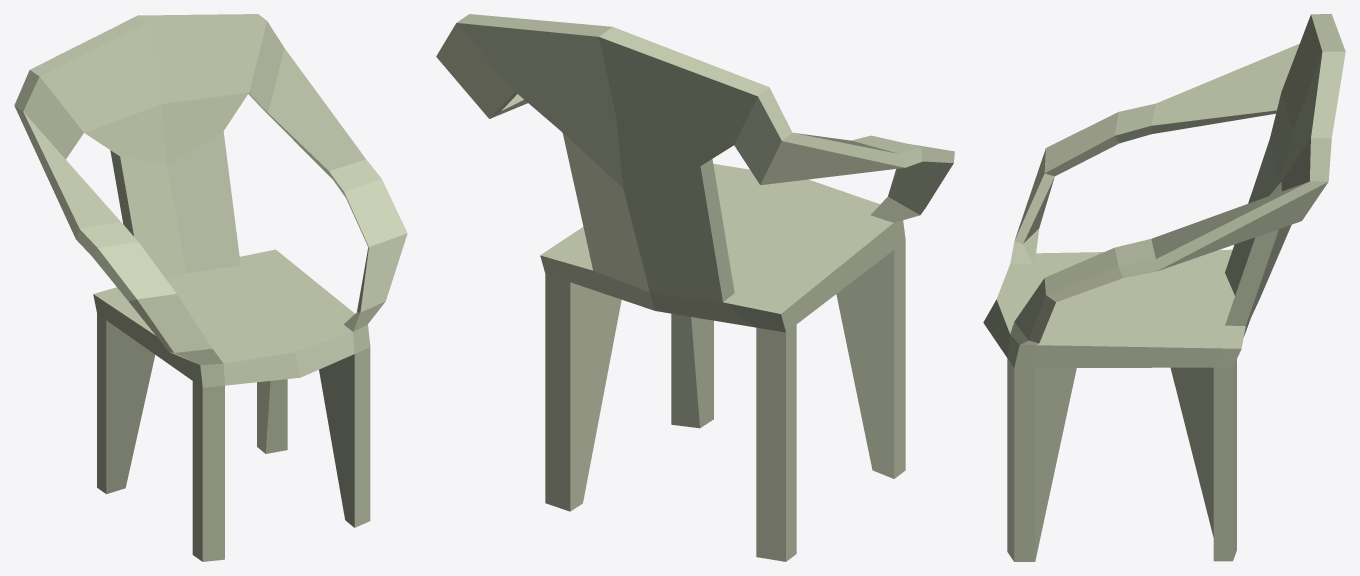
Rendered from PlasticChair.fbx.
3 renders of one model, left to right at view 1: azimuth 30°, elevation 25°; view 2: azimuth 150°, elevation 25°; view 3: azimuth 270°, elevation 25°, orthographic. The views are drawn at different scales.
Visible parts, largest first — view 1: Cube; view 2: Cube; view 3: Cube.
Boxes of the visible parts, <box> form: Cube: <box>14,14,407,561</box>; Cube: <box>436,14,954,561</box>; Cube: <box>983,14,1345,561</box>.
Size of the model in its own units: 94.9 by 129 by 90.94.
